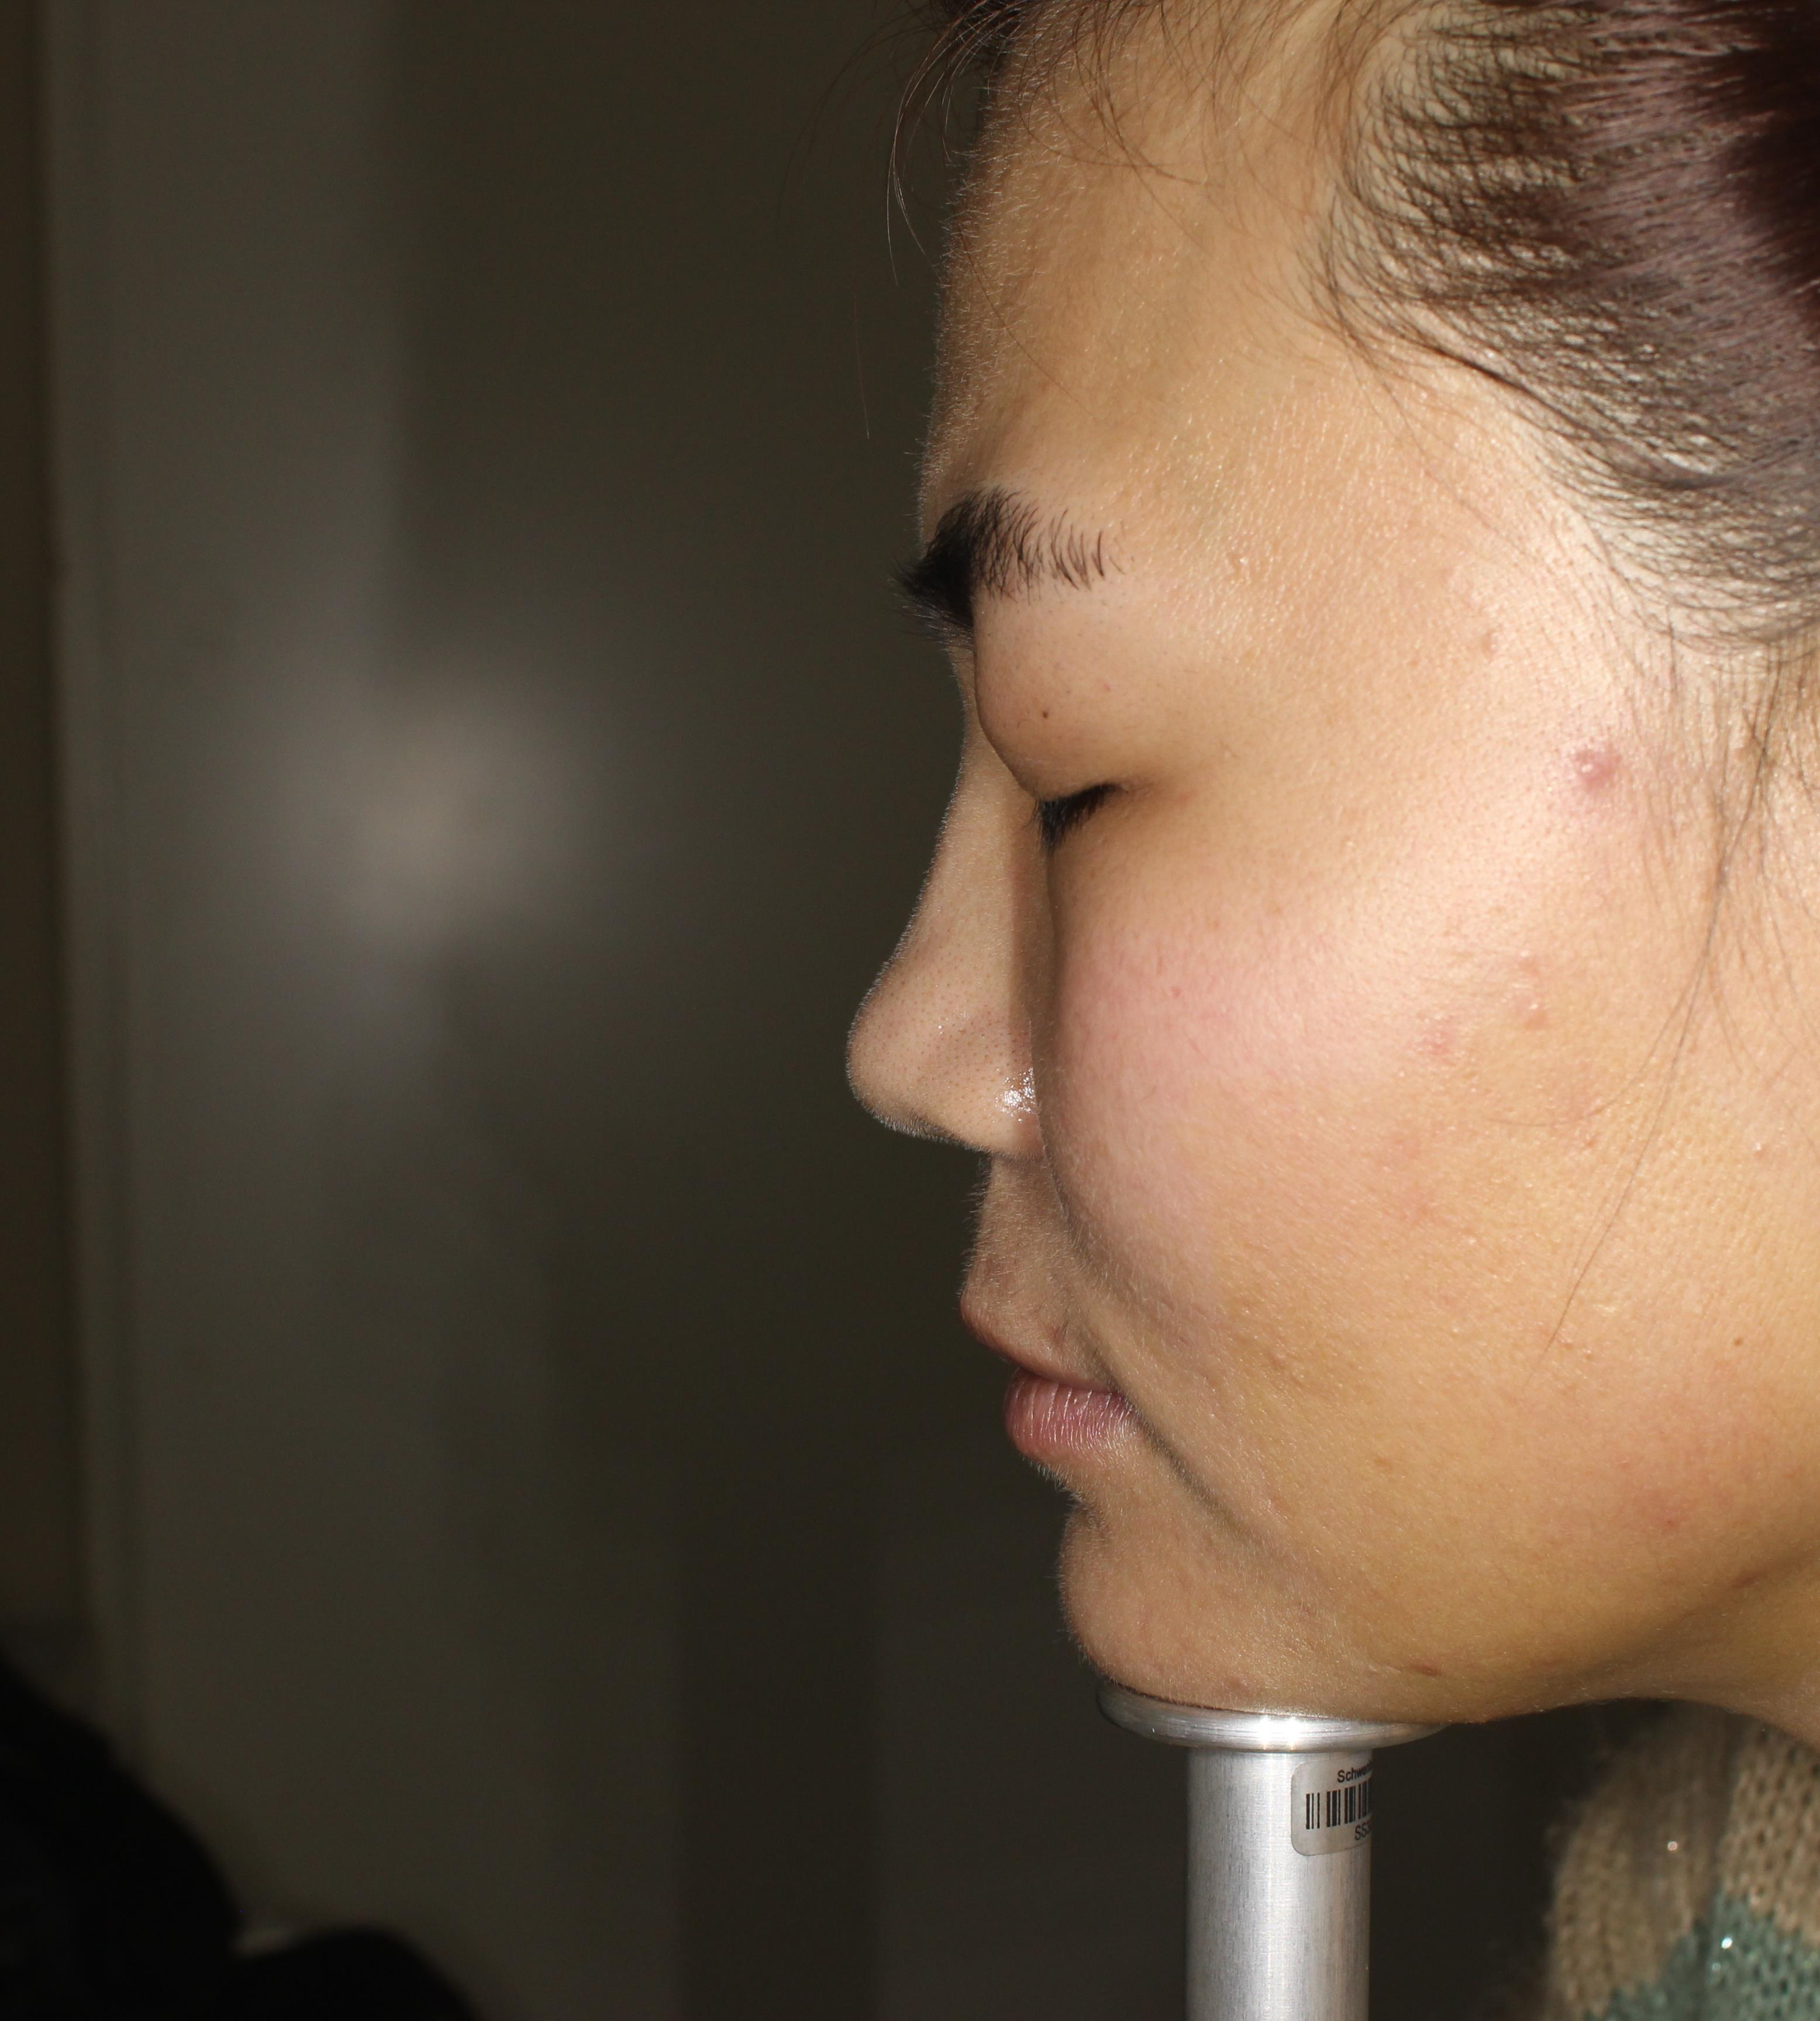fore: (1579, 720, 1646, 827)
